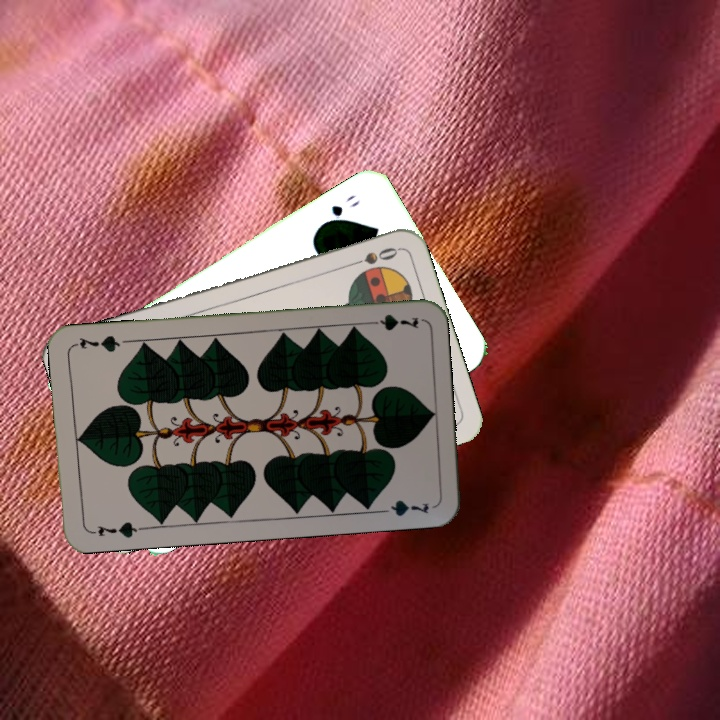G7: (362, 310, 421, 333), (86, 518, 146, 540)
GO: (317, 191, 363, 229)
SO: (343, 243, 401, 270)
